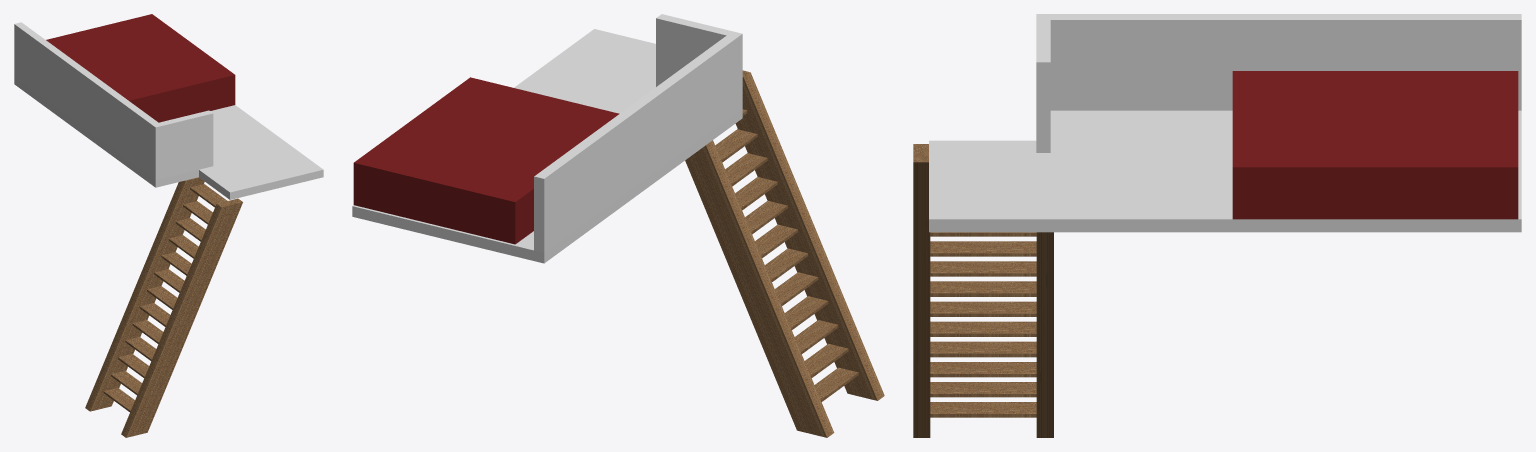
The model's file is Dach_Hochbett.gltf.
The picture shows the model from 3 angles, left to right: view 1: azimuth 30°, elevation 25°; view 2: azimuth 150°, elevation 25°; view 3: azimuth 270°, elevation 25°; orthographic projection. The views are drawn at different scales.
Visible parts, largest first — view 1: Curve.051, Curve.050, Curve.053, Curve.055, _Curve.010, Curve.054, Curve.052; view 2: Curve.051, Curve.050, Curve.053, Curve.055, _Curve.010, Curve.052, Curve.054; view 3: Curve.051, Curve.053, Curve.055, _Curve.010, Curve.050, Curve.052, Curve.054.
Part boxes in pixels (left/top/right/bottom): Curve.051: left=46, top=14, right=235, bottom=122; Curve.050: left=85, top=177, right=242, bottom=437; Curve.053: left=14, top=22, right=162, bottom=179; Curve.055: left=199, top=105, right=323, bottom=199; _Curve.010: left=103, top=184, right=227, bottom=411; Curve.054: left=159, top=110, right=213, bottom=178; Curve.052: left=14, top=77, right=198, bottom=187; Curve.051: left=353, top=77, right=619, bottom=244; Curve.050: left=685, top=70, right=884, bottom=437; Curve.053: left=534, top=31, right=742, bottom=252; Curve.055: left=352, top=29, right=655, bottom=248; _Curve.010: left=715, top=109, right=858, bottom=401; Curve.052: left=483, top=108, right=742, bottom=263; Curve.054: left=656, top=14, right=731, bottom=86; Curve.051: left=1232, top=71, right=1518, bottom=219; Curve.053: left=1036, top=14, right=1521, bottom=110; Curve.055: left=929, top=140, right=1521, bottom=232; _Curve.010: left=930, top=232, right=1036, bottom=417; Curve.050: left=913, top=144, right=1053, bottom=437; Curve.052: left=1050, top=110, right=1521, bottom=140; Curve.054: left=1036, top=20, right=1050, bottom=152.
Bounding box in the file's own units: 2.81 × 3.56 × 4.26.
3 materials, 1 textured.
